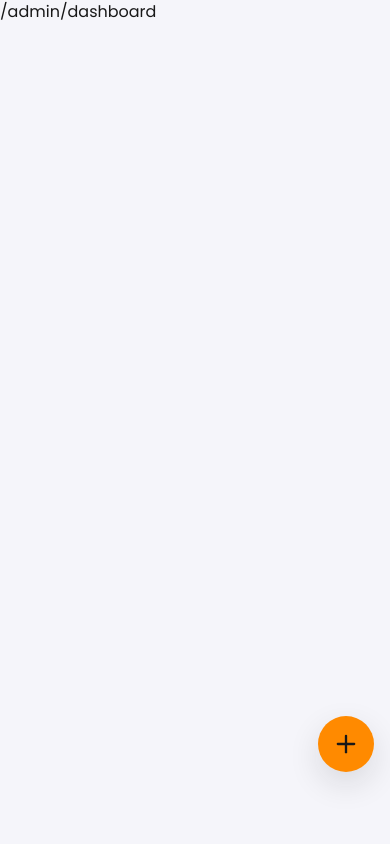
Test: AdminFab › opens the action sheet and navigates to the selected booking flow
Later steps or results of the test are not shown.
Click the button named "Create booking": click(346, 744) [318,716,374,772]
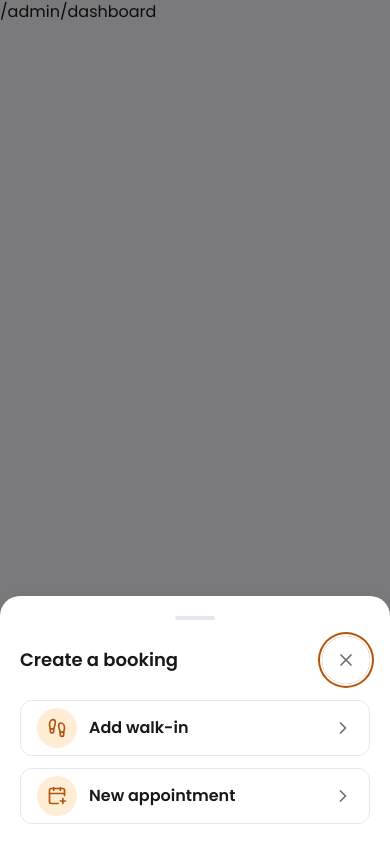
Check: the dialog "Create a booking" is shown, box [0,596,389,843]
Check: the button "Add walk-in" is shown, box [20,700,370,756]
Check: the button "New appointment" is shown, box [20,768,370,824]
